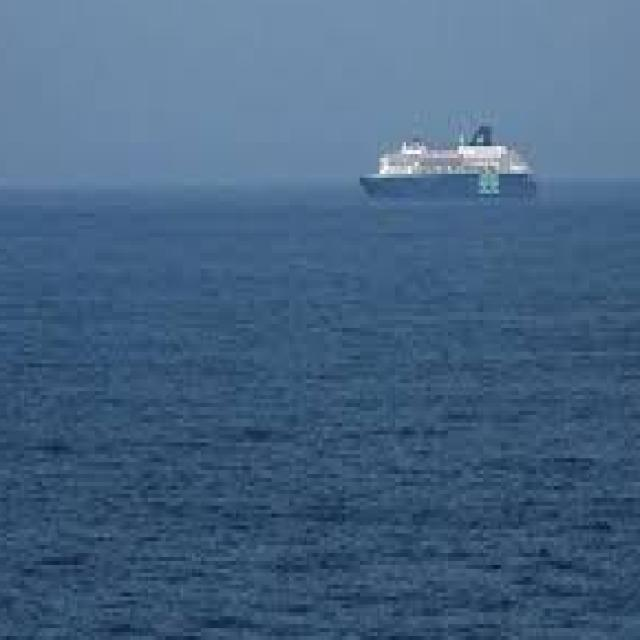passenger ship: (358, 106, 541, 206)
